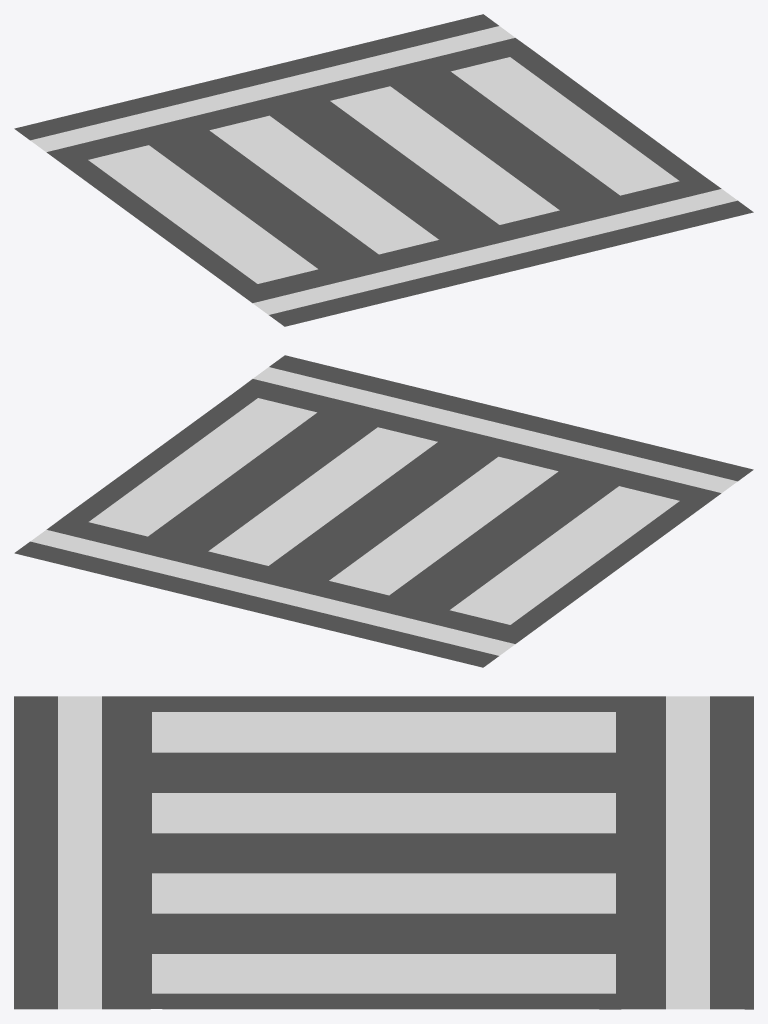
The model's file is RoadPart_04.fbx.
3 views of the same model, one above another, from view 1: azimuth 30°, elevation 25°; view 2: azimuth 150°, elevation 25°; view 3: azimuth 270°, elevation 25° (orthographic). The views are drawn at different scales.
Parts seen in each view (by area): view 1: RoadPart_04; view 2: RoadPart_04; view 3: RoadPart_04.
Boxes of the visible parts, <box> form: RoadPart_04: <box>14,14,753,326</box>; RoadPart_04: <box>14,355,753,667</box>; RoadPart_04: <box>14,696,753,1009</box>.
Bounding box in the file's own units: 300 × 0.000146 × 300.
